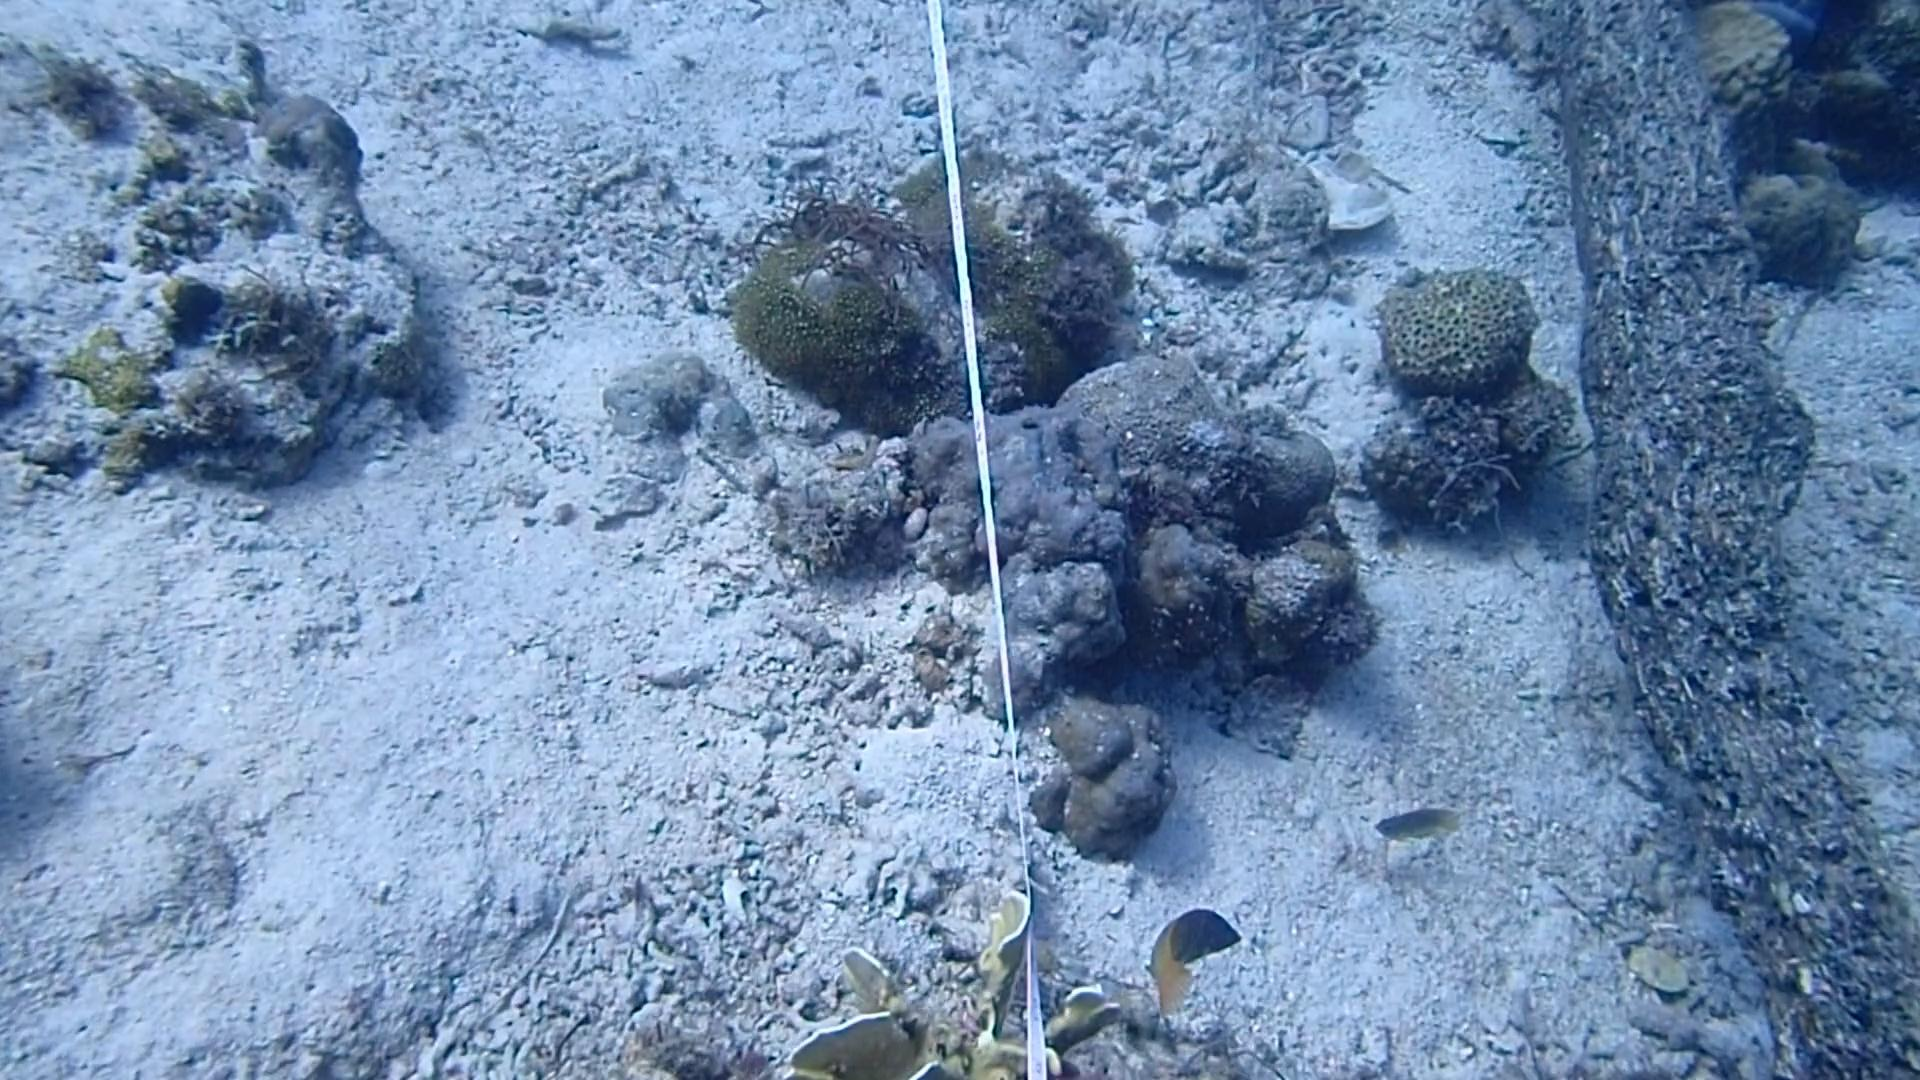Light Fish: (1358, 794, 1466, 860)
Yellow-Blue Fish: (1126, 889, 1245, 1014)
